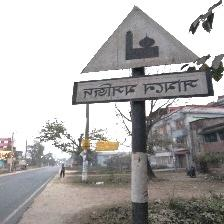Mosque in front: (76, 4, 213, 107)
